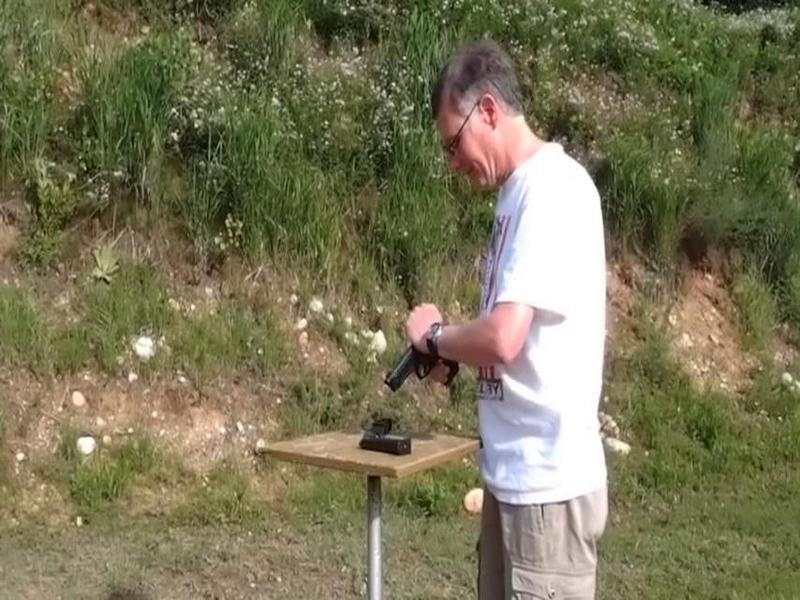Pistola: (371, 332, 479, 406)
